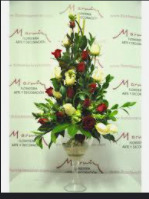RedRose: (71, 59, 86, 73), (82, 115, 95, 131), (59, 107, 73, 121), (95, 102, 109, 114), (46, 85, 62, 95), (49, 48, 63, 59), (79, 48, 94, 57), (88, 81, 98, 92), (38, 115, 49, 125), (68, 85, 76, 97)
